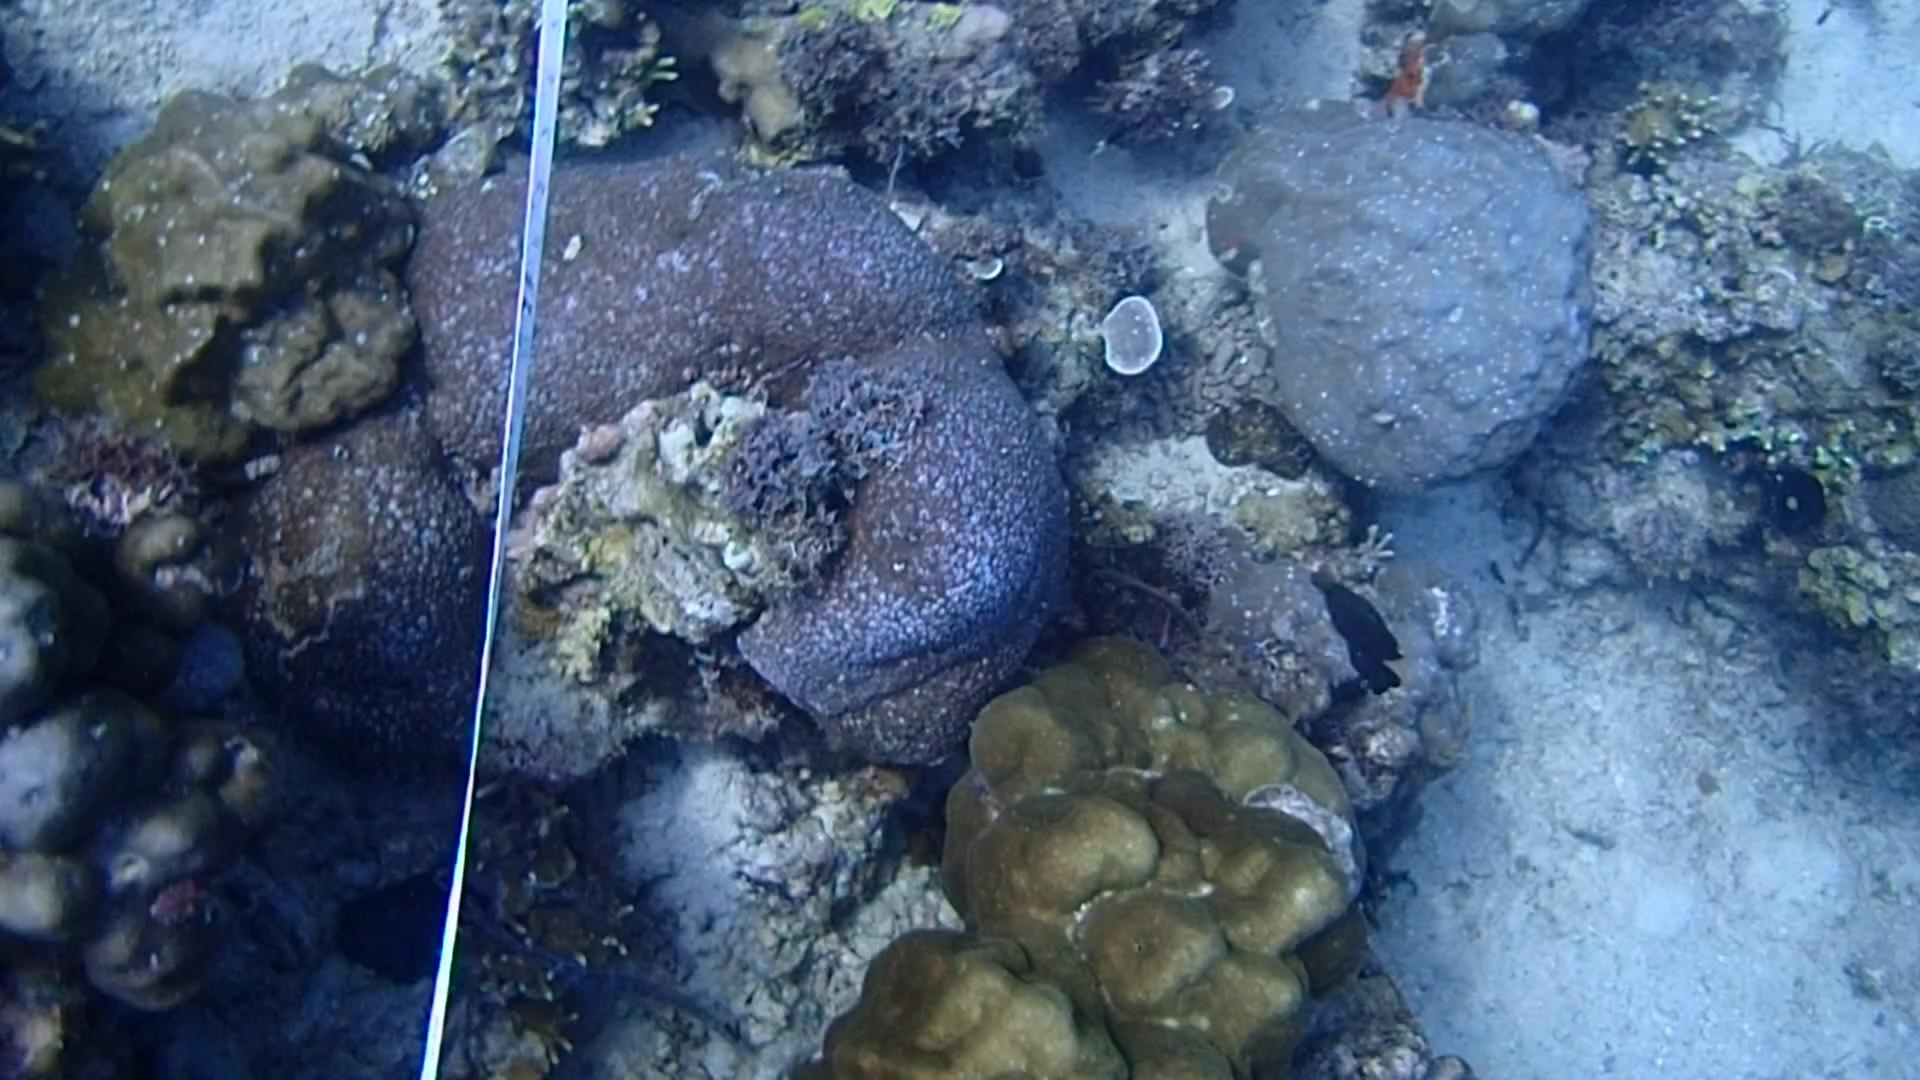Dark Fish: (1315, 571, 1406, 694)
